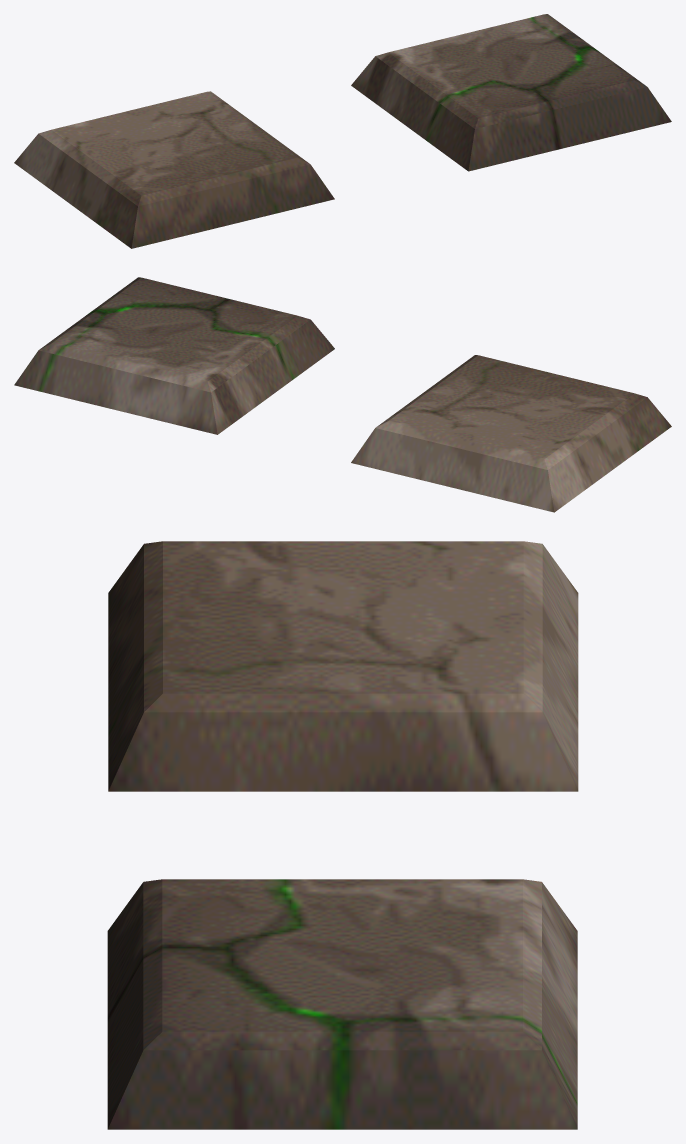
The picture shows the model from 3 angles, top to bottom: view 1: azimuth 30°, elevation 25°; view 2: azimuth 150°, elevation 25°; view 3: azimuth 270°, elevation 25°; orthographic projection. The views are drawn at different scales.
Parts seen in each view (by area): view 1: Cube, Cube.001; view 2: Cube.001, Cube; view 3: Cube, Cube.001.
Boxes of the visible parts, x1,y1,x2,y2 form: Cube: (14, 91, 334, 248); Cube.001: (351, 14, 671, 171); Cube.001: (14, 277, 334, 434); Cube: (351, 355, 671, 512); Cube: (108, 541, 578, 791); Cube.001: (107, 879, 577, 1129).
Size of the model in its own units: 5.31 by 0.3955 by 2.
Materials: 1 (1 with a texture image).
